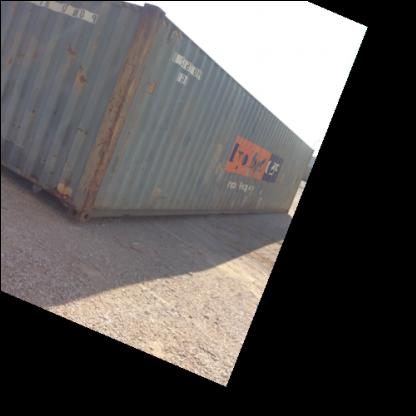Damage: (86, 73, 134, 170), (2, 43, 42, 68), (217, 186, 263, 206), (173, 124, 195, 152), (52, 171, 72, 197), (72, 56, 91, 82), (152, 184, 174, 204), (237, 155, 264, 167)
